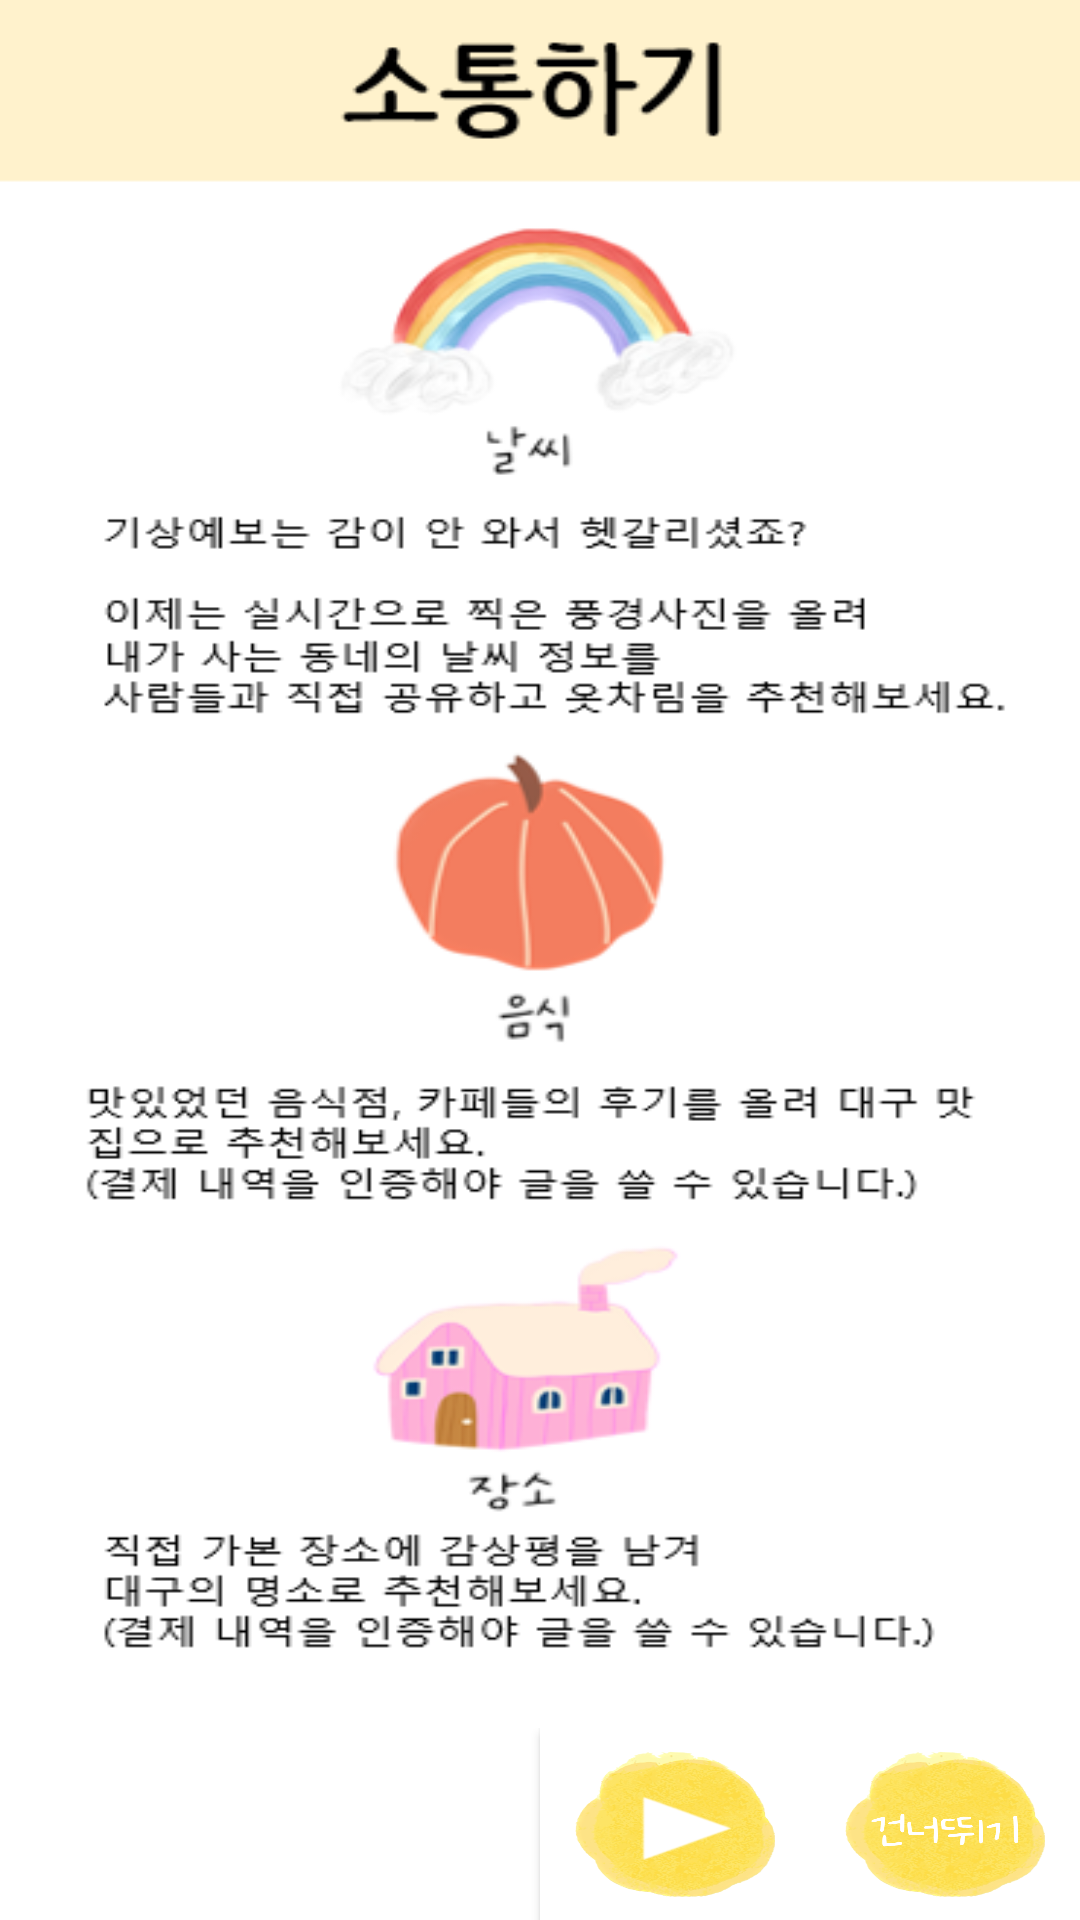

Locate icon controls on the screen. Image size 1080 x 1920, boxes as (left=x1, top=y1, right=x2, bottom=y2).
next: (left=575, top=1752, right=775, bottom=1897)
